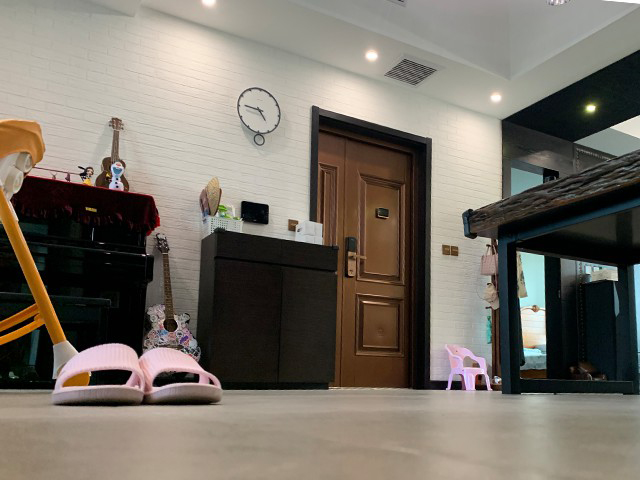cabinet: (196, 227, 339, 391)
slippers: (50, 342, 223, 406)
stool: (443, 342, 491, 392)
table: (461, 147, 640, 397)
